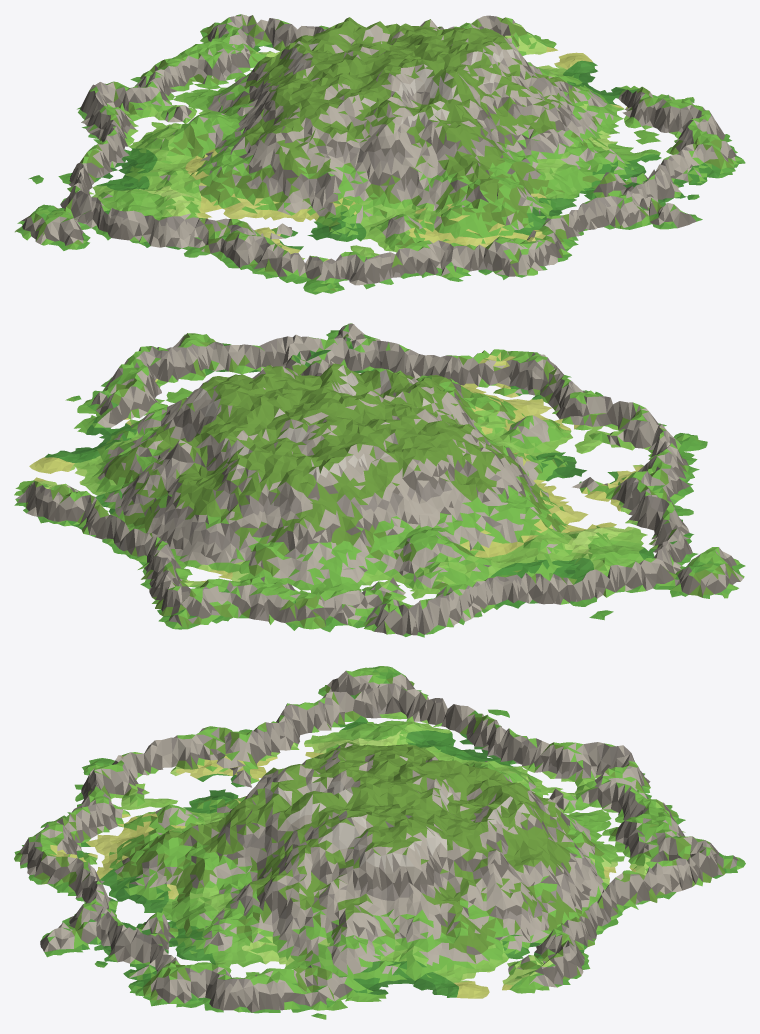
The model's file is Isl-rocky3-Relief.fbx.
3 views of the same model, one above another, from view 1: azimuth 30°, elevation 25°; view 2: azimuth 150°, elevation 25°; view 3: azimuth 270°, elevation 25° (orthographic). The views are drawn at different scales.
Visible parts, largest first — view 1: Isl-rocky3-Relief-c11, Isl-rocky3-Relief-c21, Isl-rocky3-Relief-c12, Isl-rocky3-Relief-c22, Isl-rocky3-Relief-c01, Isl-rocky3-Relief-c02, Isl-rocky3-Relief-c10; view 2: Isl-rocky3-Relief-c12, Isl-rocky3-Relief-c11, Isl-rocky3-Relief-c22, Isl-rocky3-Relief-c21, Isl-rocky3-Relief-c02, Isl-rocky3-Relief-c01; view 3: Isl-rocky3-Relief-c21, Isl-rocky3-Relief-c22, Isl-rocky3-Relief-c11, Isl-rocky3-Relief-c12, Isl-rocky3-Relief-c01, Isl-rocky3-Relief-c02.
Part boxes in pixels (left/top/right/bottom): Isl-rocky3-Relief-c11: left=114, top=59, right=550, bottom=294; Isl-rocky3-Relief-c21: left=390, top=36, right=745, bottom=261; Isl-rocky3-Relief-c12: left=59, top=14, right=390, bottom=209; Isl-rocky3-Relief-c22: left=242, top=14, right=599, bottom=92; Isl-rocky3-Relief-c01: left=21, top=193, right=152, bottom=250; Isl-rocky3-Relief-c02: left=15, top=172, right=102, bottom=233; Isl-rocky3-Relief-c10: left=496, top=247, right=553, bottom=279; Isl-rocky3-Relief-c12: left=158, top=403, right=629, bottom=637; Isl-rocky3-Relief-c11: left=332, top=350, right=707, bottom=563; Isl-rocky3-Relief-c22: left=14, top=378, right=331, bottom=615; Isl-rocky3-Relief-c21: left=65, top=323, right=503, bottom=439; Isl-rocky3-Relief-c02: left=585, top=548, right=731, bottom=620; Isl-rocky3-Relief-c01: left=648, top=520, right=745, bottom=590; Isl-rocky3-Relief-c21: left=30, top=780, right=388, bottom=1019; Isl-rocky3-Relief-c22: left=385, top=781, right=725, bottom=998; Isl-rocky3-Relief-c11: left=28, top=697, right=388, bottom=872; Isl-rocky3-Relief-c12: left=385, top=702, right=743, bottom=873; Isl-rocky3-Relief-c01: left=318, top=666, right=387, bottom=722; Isl-rocky3-Relief-c02: left=385, top=666, right=509, bottom=723.
Bounding box in the file's own units: 120 × 16.3 × 108.
